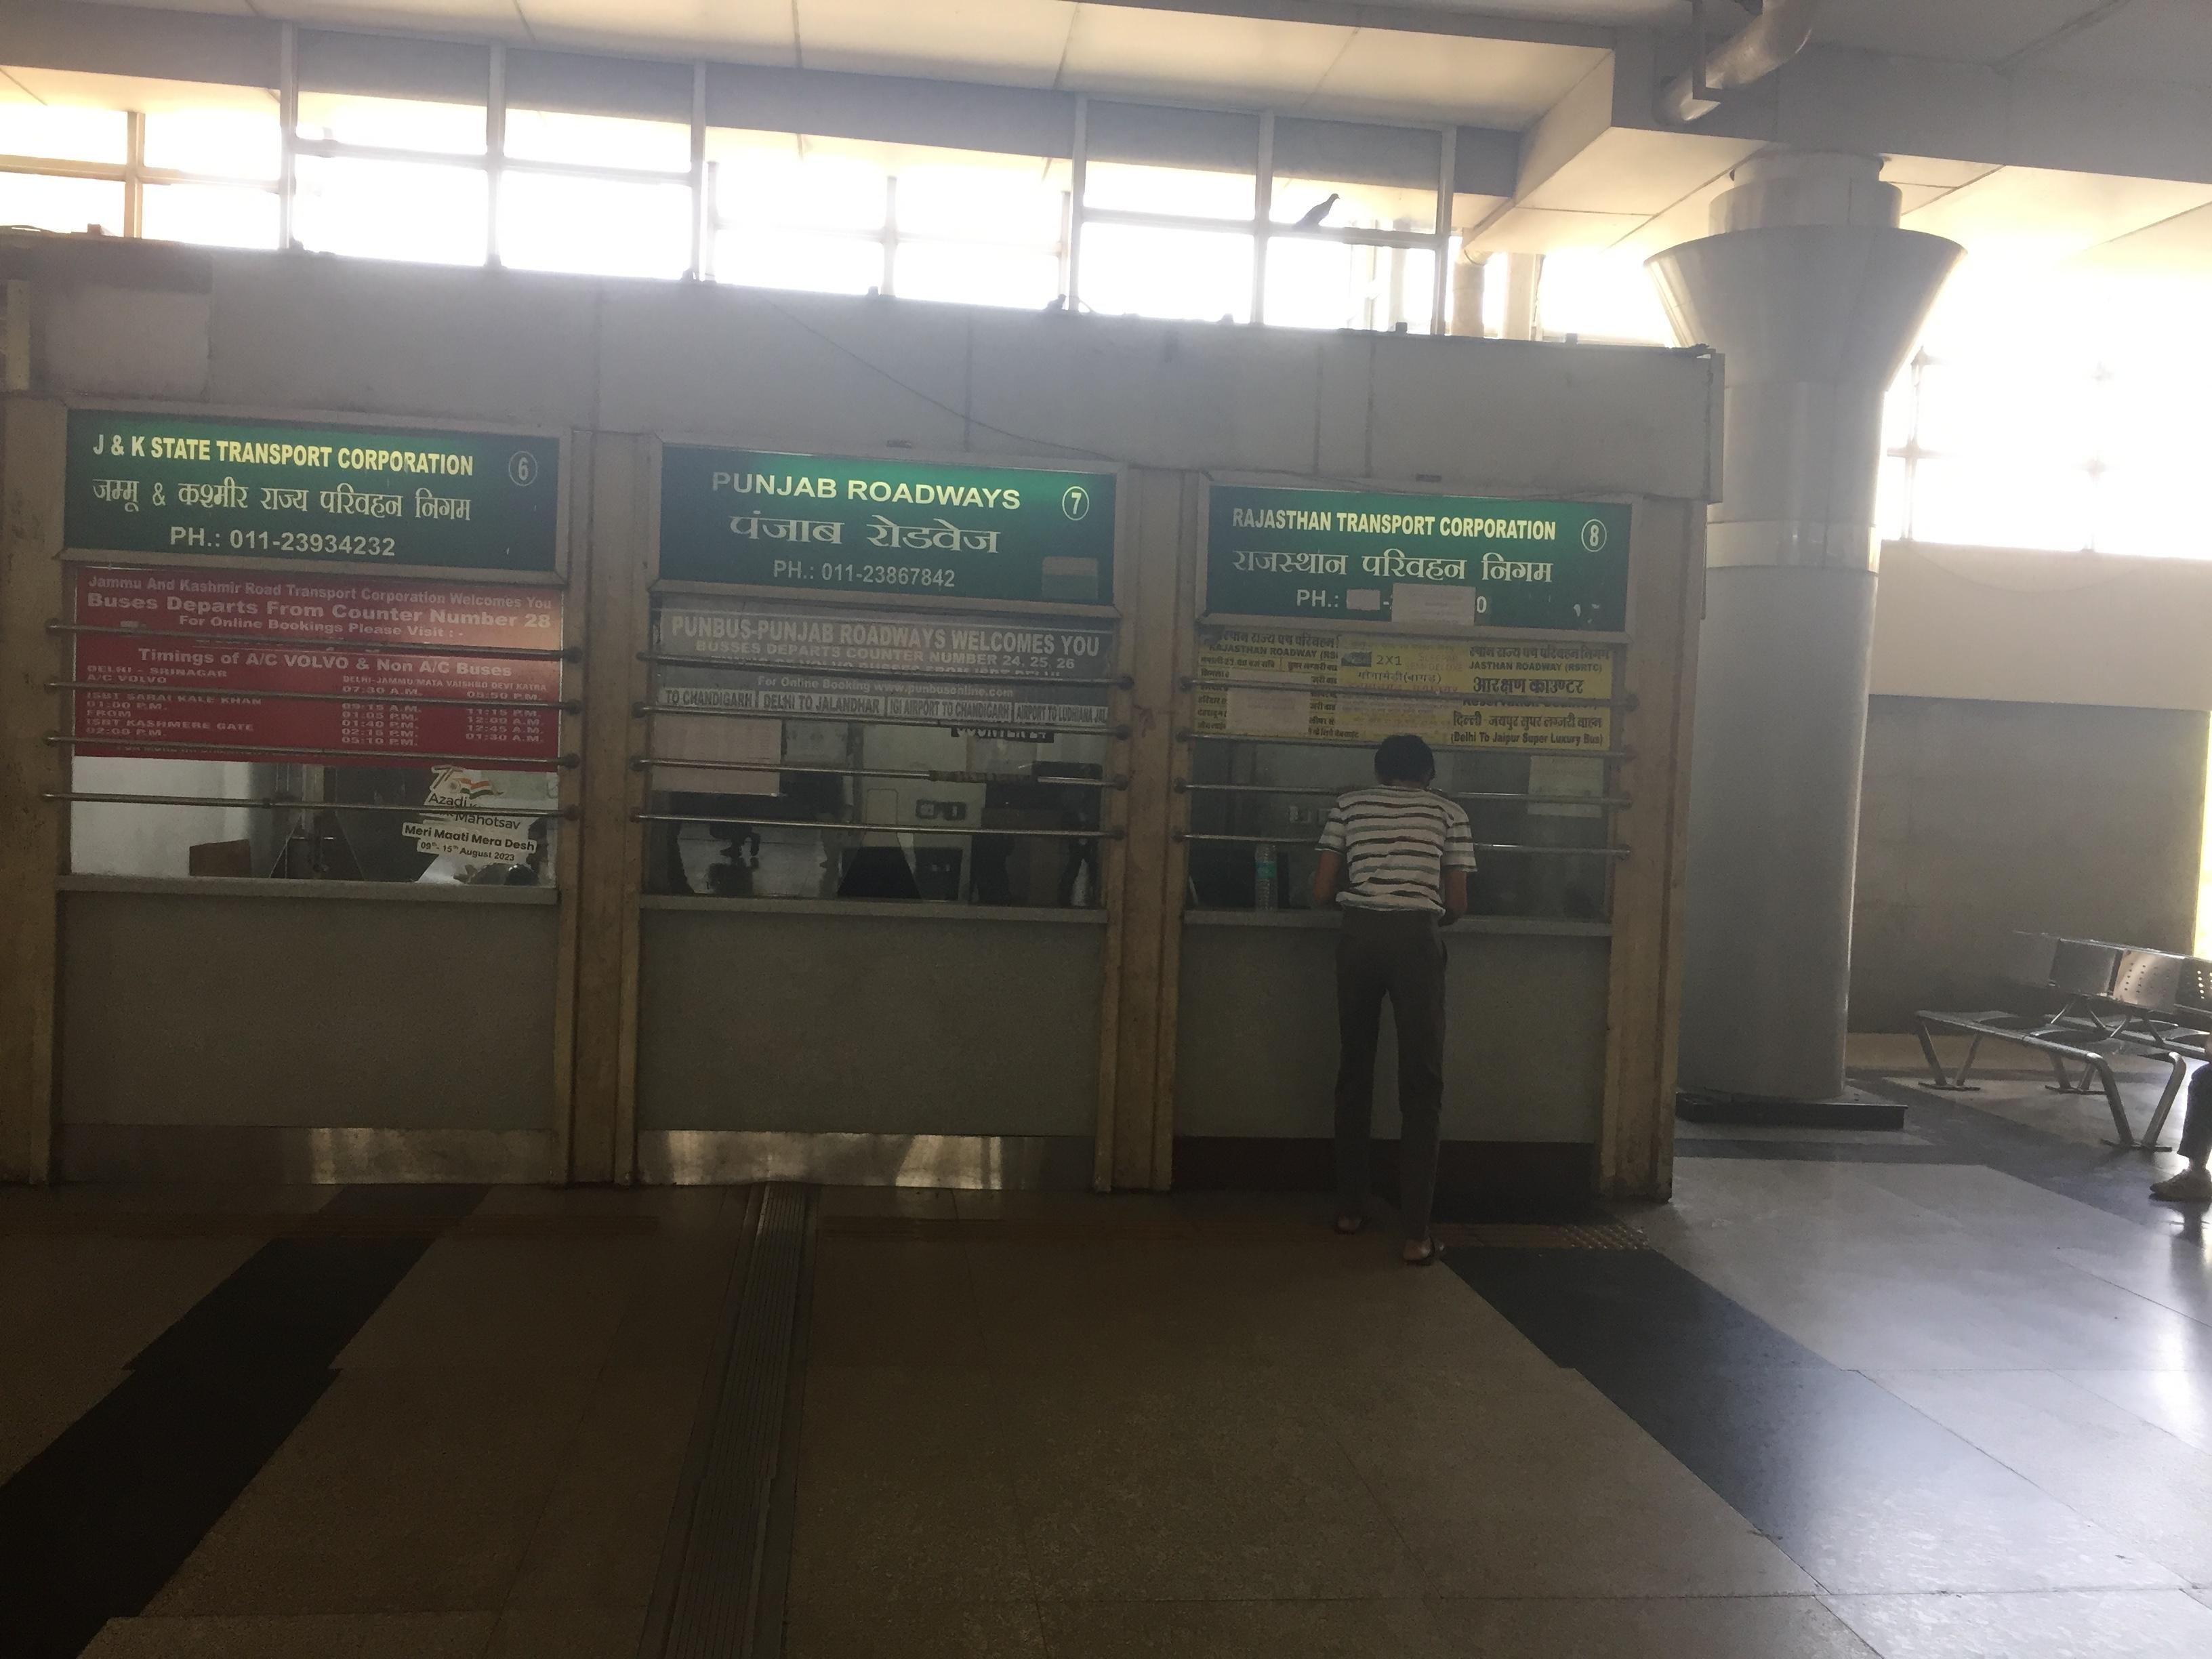Bus-stop-board: (89, 410, 1674, 647)
